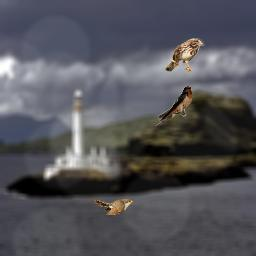Cuckoo: (94, 199, 134, 215)
Sparrow: (165, 38, 205, 73)
Swallow: (154, 86, 192, 126)
